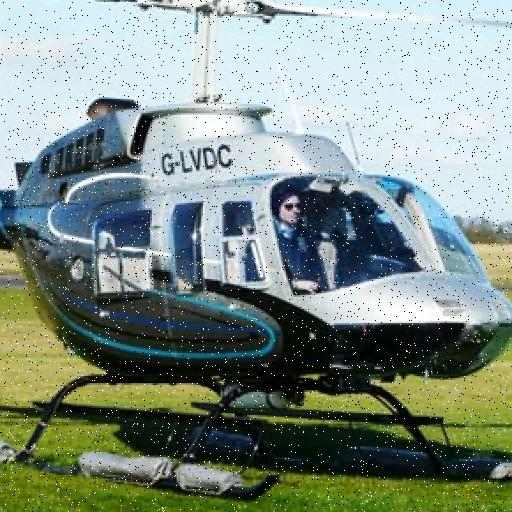helicopter: (1, 1, 511, 511)
